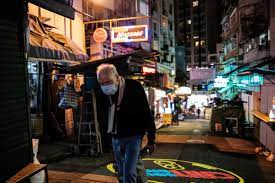mask: (100, 84, 117, 95)
